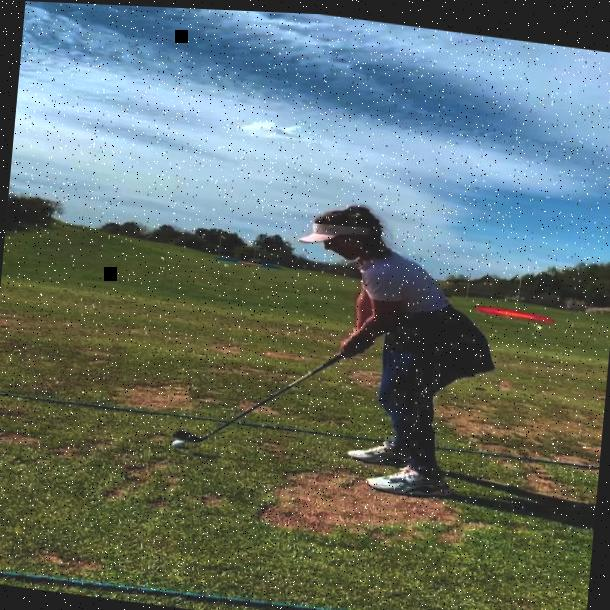ClubHead: (178, 428, 204, 442)
GolfBall: (168, 438, 186, 447)
